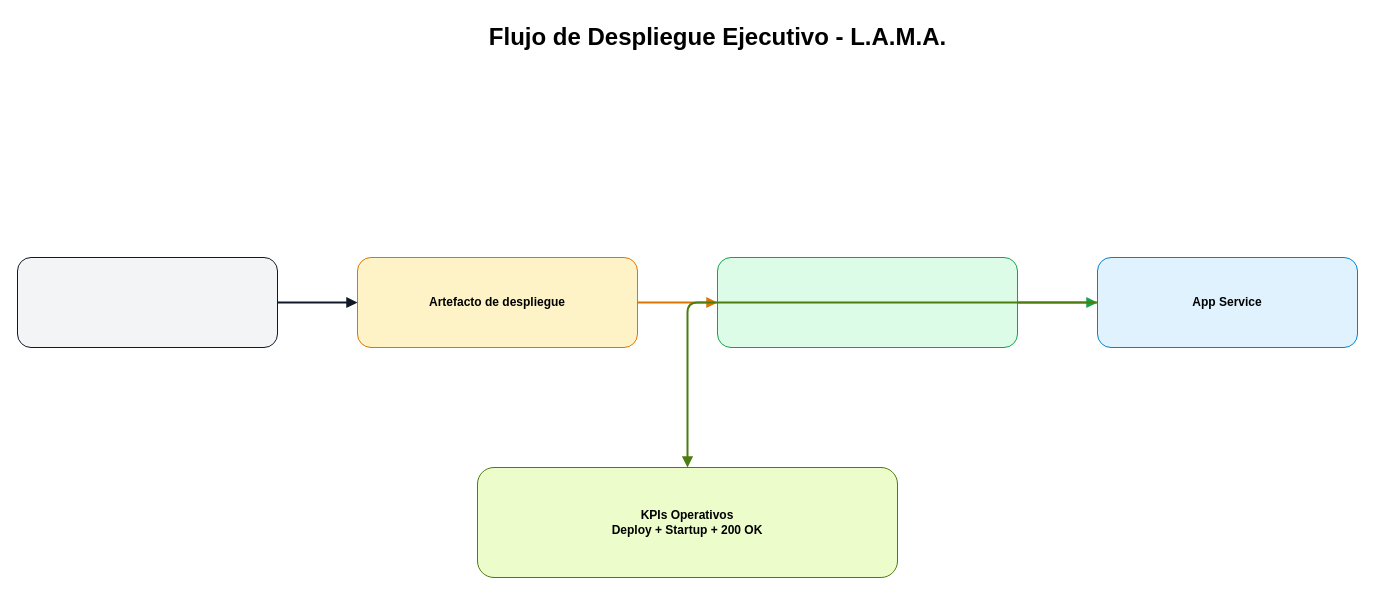
The diagram is 1375 pixels wide and 595 high, and some of its shapes have lost their labels. The centre of each missing label's shape, as x and y in pixels:
"Azure OneDeploy" goes at [867,302].
"GitHub main" goes at [147,302].
